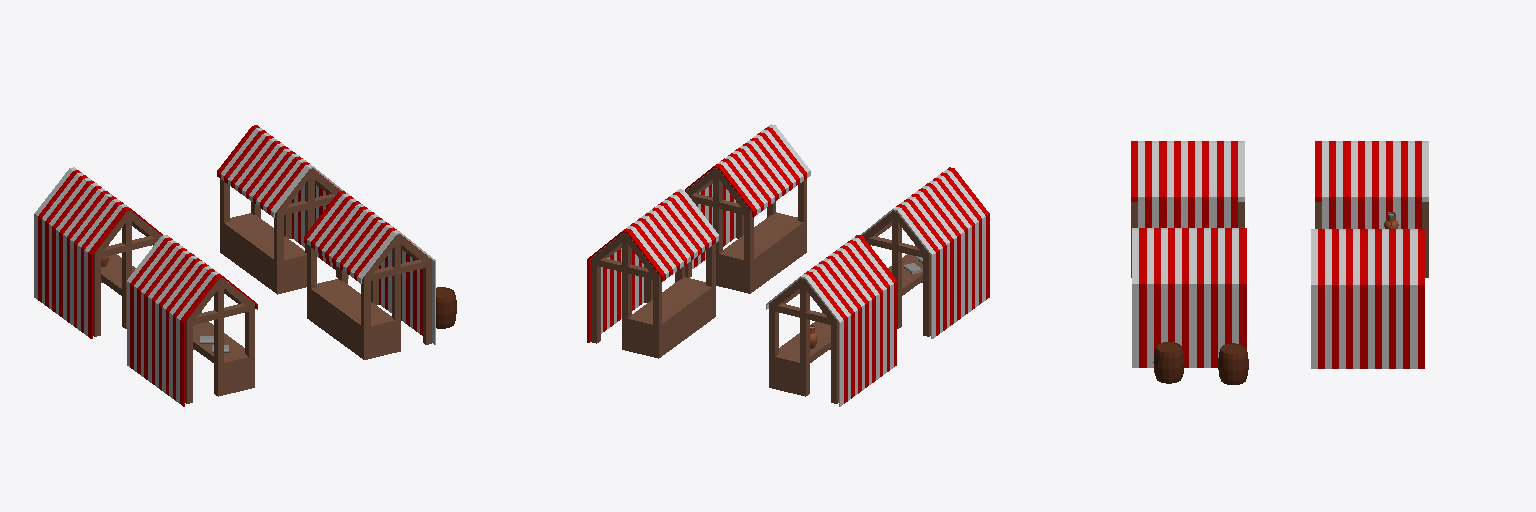
Rendered from market_red_white.obj.
The picture shows the model from 3 angles: view 1: azimuth 30°, elevation 25°; view 2: azimuth 150°, elevation 25°; view 3: azimuth 270°, elevation 25°; orthographic projection.
Visible parts, largest first — view 1: Cube.060_Cube.235, Cube.156_Cube.225, Cube.052_Cube.004, Cube.056_Cube.178, Cube.147_Cube.153, Cube.001_Cube.064, Barrel1.001; view 2: Cube.156_Cube.225, Cube.060_Cube.235, Cube.056_Cube.178, Cube.052_Cube.004, Cube.001_Cube.064, Cube.147_Cube.153, Cube.025_Cube.001, Cube.057_Cube.179; view 3: Cube.156_Cube.225, Cube.060_Cube.235, Cube.001_Cube.064, Cube.147_Cube.153, Barrel1.001, Barrel1.
Boxes of the visible parts, box(x1,y1,x2,y2) form: Cube.060_Cube.235: box(127, 235, 257, 406); Cube.156_Cube.225: box(34, 167, 162, 338); Cube.052_Cube.004: box(309, 234, 431, 359); Cube.056_Cube.178: box(222, 168, 340, 294); Cube.147_Cube.153: box(379, 250, 435, 344); Cube.001_Cube.064: box(292, 184, 348, 278); Barrel1.001: box(436, 287, 456, 328); Cube.156_Cube.225: box(766, 235, 896, 406); Cube.060_Cube.235: box(861, 167, 989, 338); Cube.056_Cube.178: box(591, 232, 715, 356); Cube.052_Cube.004: box(685, 168, 806, 292); Cube.001_Cube.064: box(587, 248, 643, 342); Cube.147_Cube.153: box(692, 184, 735, 268); Cube.025_Cube.001: box(744, 210, 753, 293); Cube.057_Cube.179: box(653, 275, 661, 358); Cube.156_Cube.225: box(1315, 141, 1428, 277); Cube.060_Cube.235: box(1131, 141, 1244, 277); Cube.001_Cube.064: box(1311, 285, 1424, 368); Cube.147_Cube.153: box(1132, 284, 1246, 367); Barrel1.001: box(1153, 342, 1184, 383); Barrel1: box(1218, 343, 1248, 384).
Bounding box in the file's own units: 9.51 × 3.73 × 8.36.